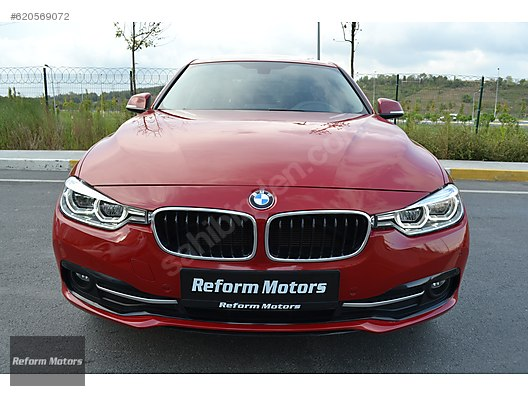bmw: (47, 53, 476, 333)
